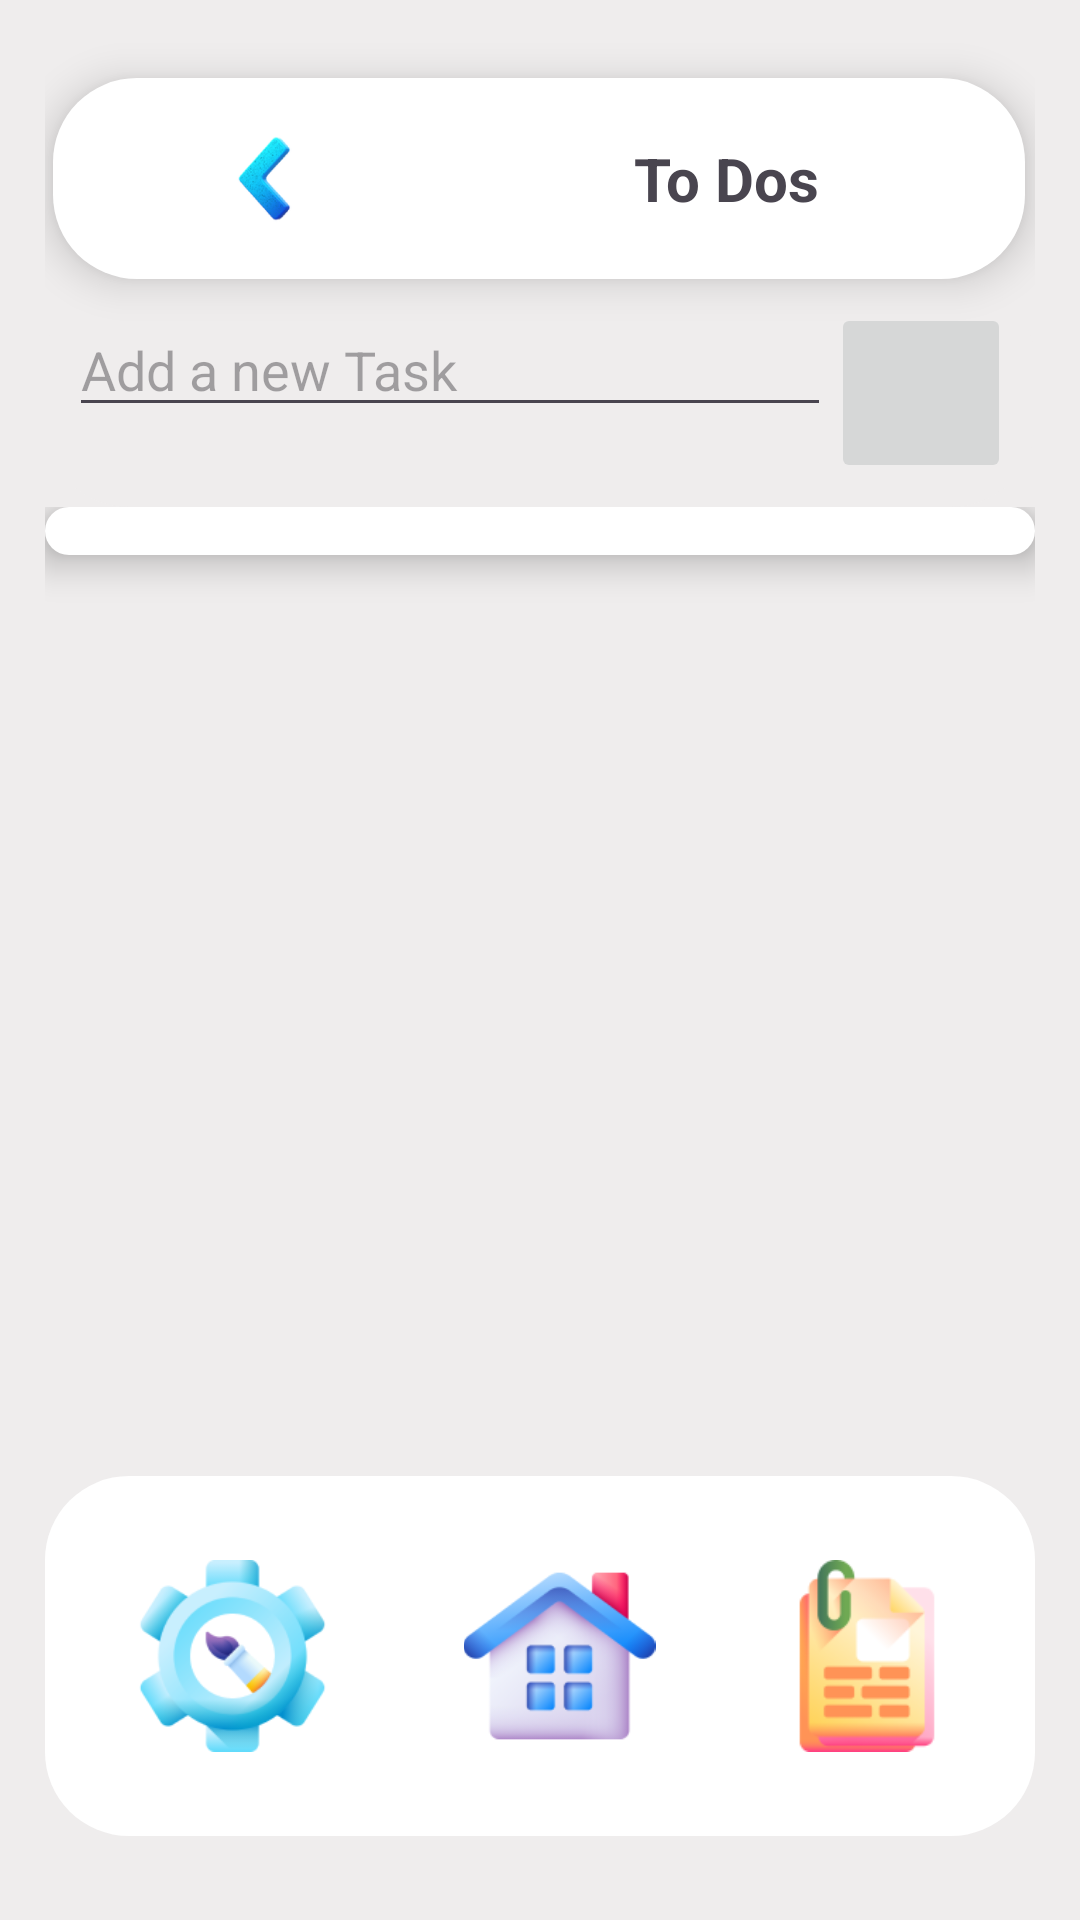

Named icons in this screenshot (1080w x 1920h) and their bounding boxes, bbox=[x1, y1, x2, y2]:
brief: bbox=[799, 1560, 934, 1752]
customization: bbox=[140, 1560, 325, 1752]
house: bbox=[464, 1572, 656, 1740]
